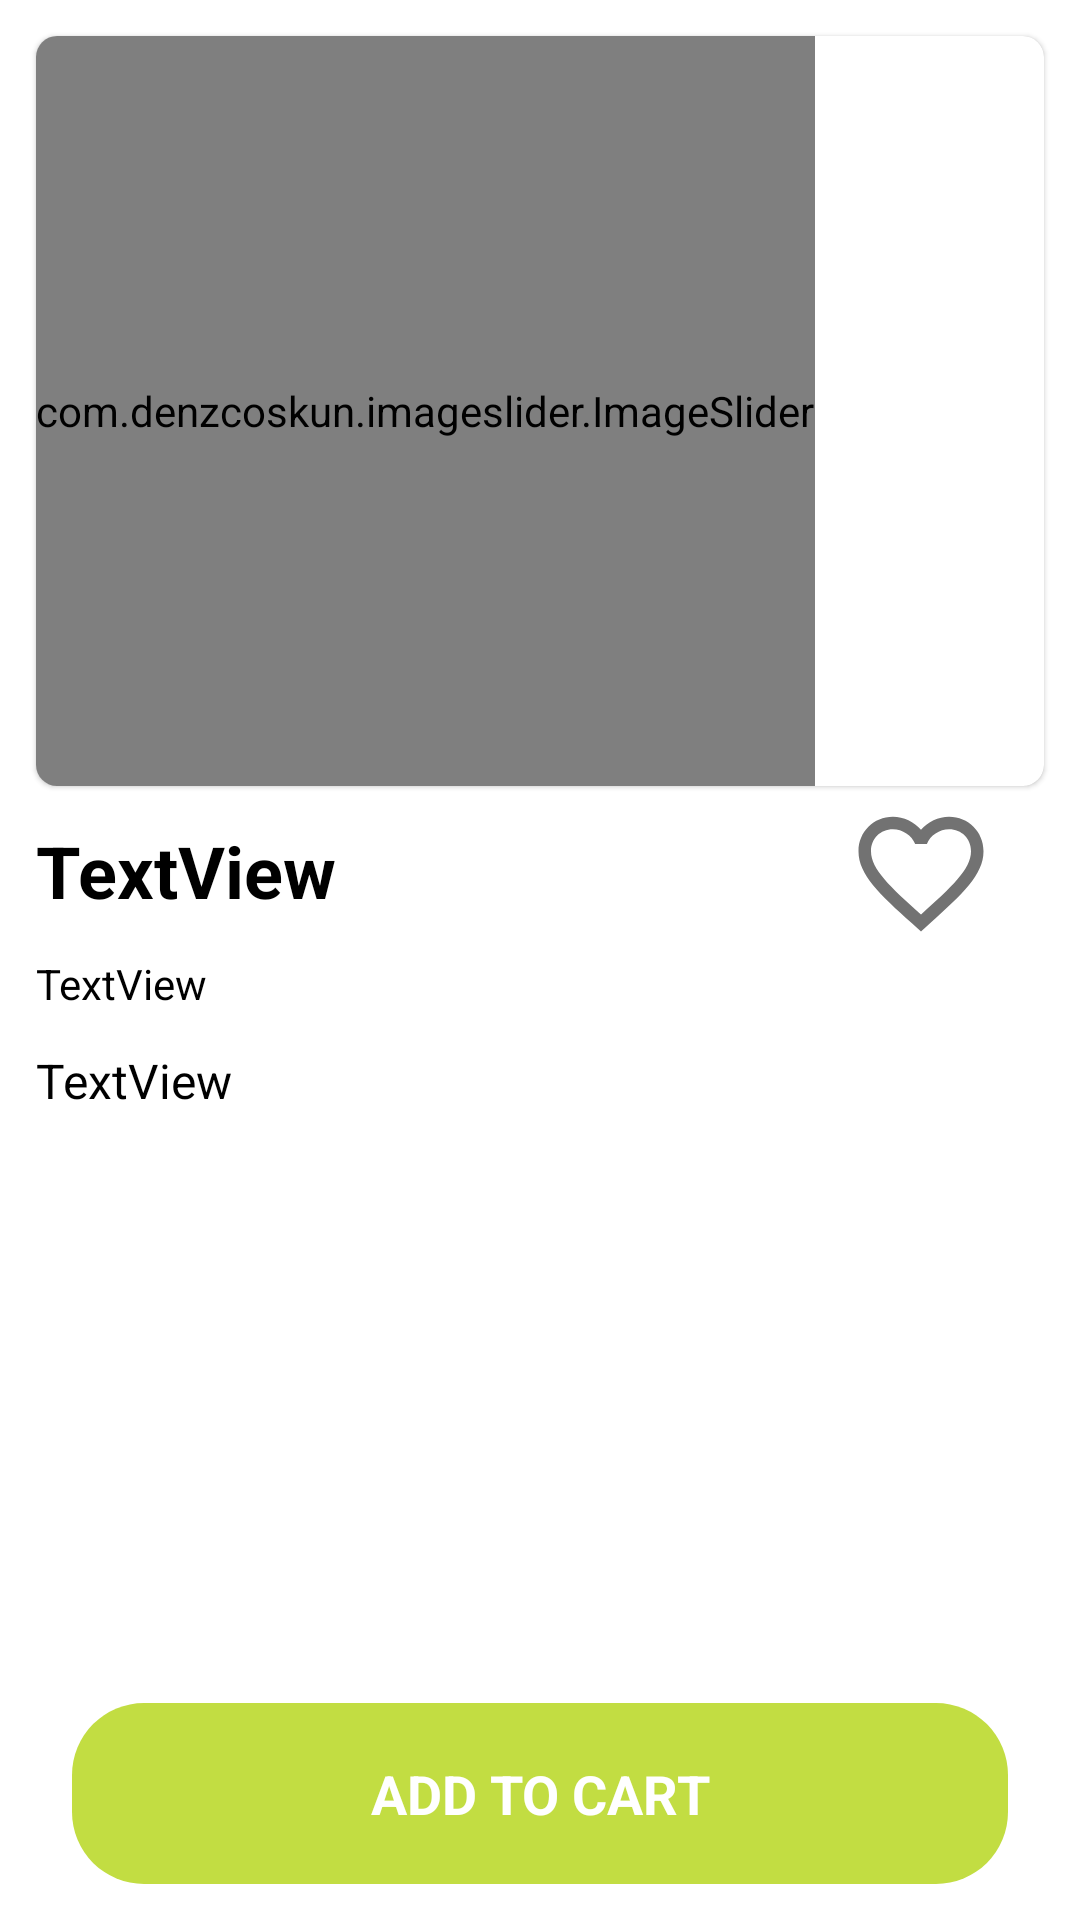

Named icons in this screenshot (1080 x 1920) and their centers, (x=x, y=y):
wishlist item: (x=921, y=873)
